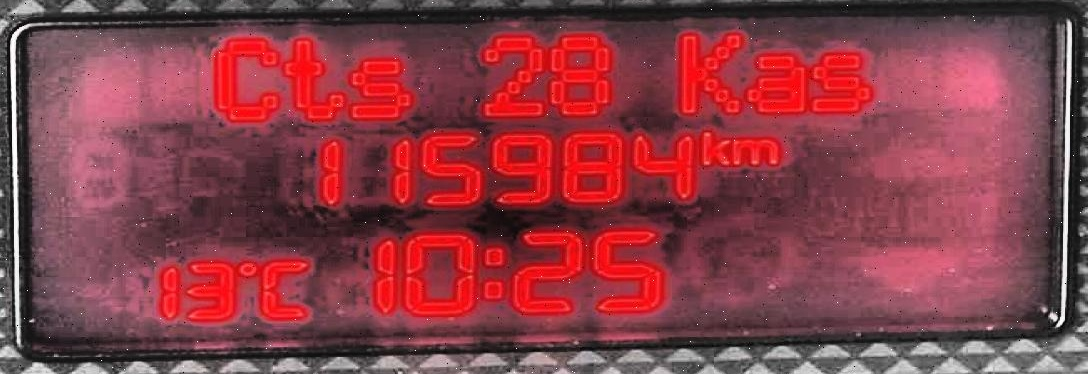0: (403, 230, 475, 315)
1: (313, 135, 353, 208), (369, 234, 396, 321), (386, 133, 414, 207), (157, 259, 179, 324)
2: (513, 226, 583, 317), (478, 29, 546, 119)
3: (182, 258, 236, 324)
4: (632, 133, 694, 198)
5: (585, 226, 665, 312), (420, 131, 485, 207)
8: (550, 31, 617, 117), (556, 129, 625, 202)
9: (488, 130, 550, 204)
X: (674, 26, 744, 116), (209, 34, 279, 121), (279, 37, 346, 121), (346, 54, 416, 120), (809, 47, 874, 116), (744, 49, 806, 114), (259, 257, 312, 327), (729, 134, 781, 170), (479, 240, 508, 304), (695, 128, 727, 168)
